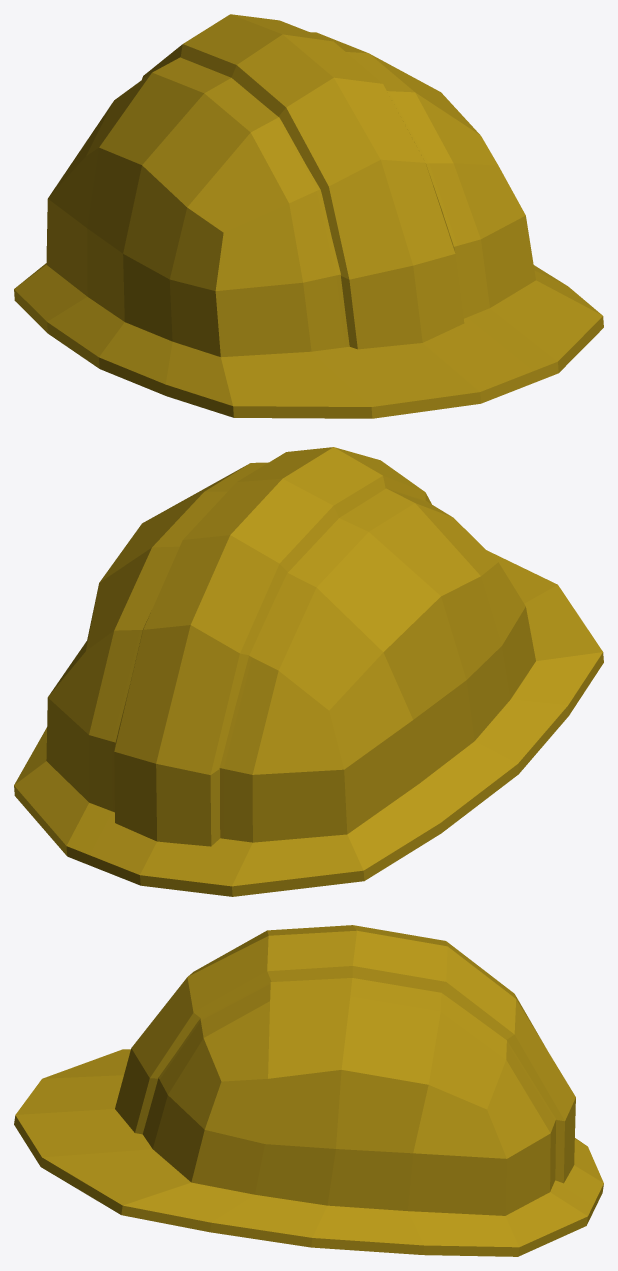
Rendered from HardHat.fbx.
3 views of the same model, one above another, from view 1: azimuth 30°, elevation 25°; view 2: azimuth 150°, elevation 25°; view 3: azimuth 270°, elevation 25° (orthographic). The views are drawn at different scales.
Parts seen in each view (by area): view 1: Hard_hat; view 2: Hard_hat; view 3: Hard_hat.
Boxes of the visible parts, bbox=[...] form: Hard_hat: bbox=[14, 14, 603, 418]; Hard_hat: bbox=[14, 447, 603, 896]; Hard_hat: bbox=[14, 925, 603, 1256].
Size of the model in its own units: 23.82 by 16.47 by 33.58.
